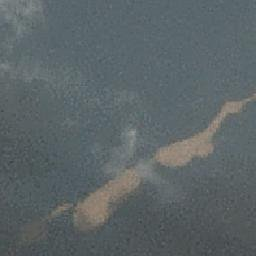debris: (71, 163, 139, 233), (155, 128, 220, 168), (209, 92, 255, 129), (48, 206, 71, 214)
